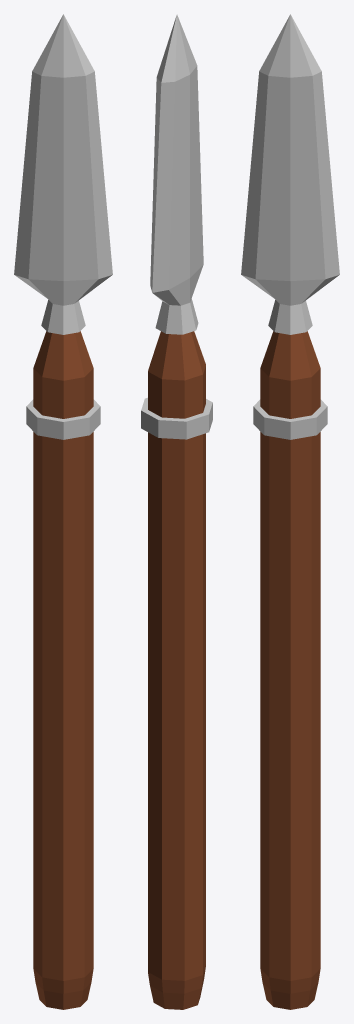
File: lanceAthena.fbx
3 views of the same model, side by side, from view 1: azimuth 90°, elevation 25°; view 2: azimuth 150°, elevation 25°; view 3: azimuth 270°, elevation 25° (orthographic).
Parts seen in each view (by area): view 1: Circle; view 2: Circle; view 3: Circle.
Part boxes in pixels (x1=…): Circle: x1=14, y1=14, x2=112, y2=1009; Circle: x1=141, y1=14, x2=212, y2=1009; Circle: x1=241, y1=14, x2=339, y2=1009.
Size of the model in its own units: 61.88 by 907 by 82.47.
